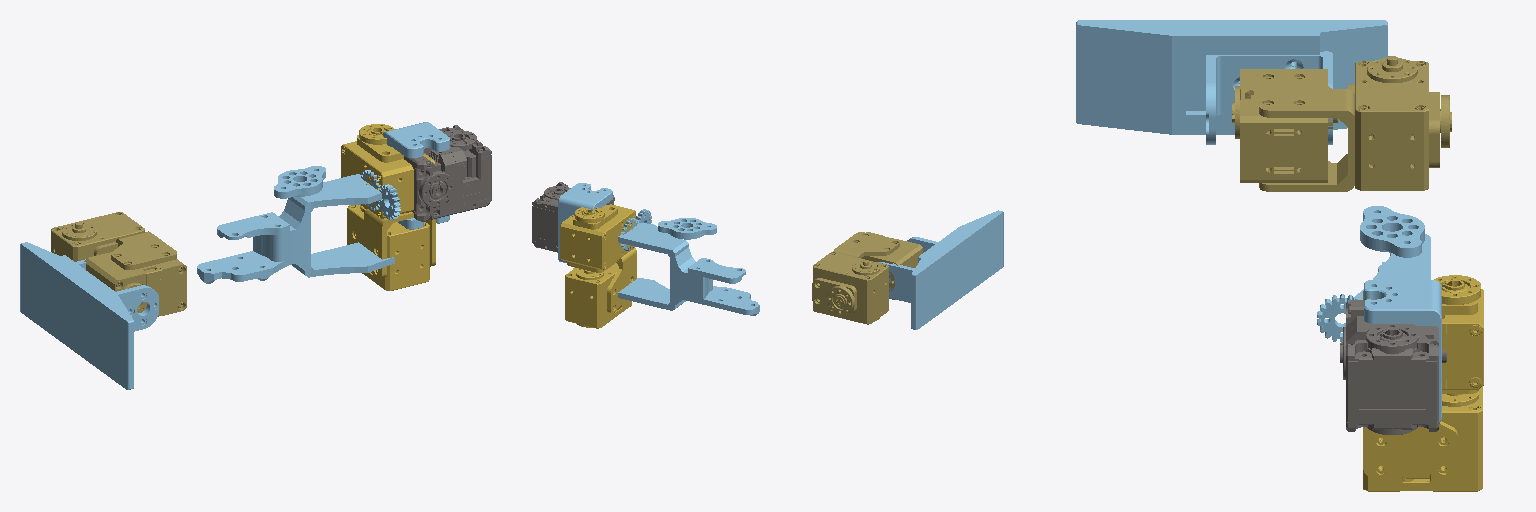
URDF robot description (right_leg_active):
<?xml version="1.0" ?>
<robot name="right_leg_active">
  <link name="2xc430">
    <visual>
      <origin xyz="0 0 0" rpy="0 -0 0"/>
      <geometry>
        <mesh filename="package:///meshes/right_2xc430_visual.stl"/>
      </geometry>
      <material name="2xc430_material">
        <color rgba="0.51698661238356047321 0.50347815951093488618 0.49050589017722012741 1.0"/>
      </material>
    </visual>
    <collision>
      <origin xyz="0 0 0" rpy="0 -0 0"/>
      <geometry>
        <mesh filename="package:///meshes/right_2xc430_collision.stl"/>
      </geometry>
    </collision>
    <inertial>
      <origin xyz="-0.0120001511339564923 0.00049588831385626367092 0.01850401924450319896" rpy="0 0 0"/>
      <mass value="0.11059999999836234164"/>
      <inertia ixx="2.2818802599017385101e-05" ixy="4.6888548258345894655e-08" ixz="4.6520143289217505514e-08" iyy="3.0871666424467696587e-05" iyz="-5.7477343899723834052e-07" izz="3.0871632082336744173e-05"/>
    </inertial>
  </link>

  <link name="hip_yaw_link">
    <visual>
      <origin xyz="0 0 0" rpy="0 -0 0"/>
      <geometry>
        <mesh filename="package:///meshes/right_hip_yaw_link_visual.stl"/>
      </geometry>
      <material name="hip_yaw_link_material">
        <color rgba="0.61568627450980395466 0.81176470588235294379 0.92941176470588238168 1.0"/>
      </material>
    </visual>
    <collision>
      <origin xyz="0 0 0" rpy="0 -0 0"/>
      <geometry>
        <mesh filename="package:///meshes/right_hip_yaw_link_collision.stl"/>
      </geometry>
    </collision>
    <inertial>
      <origin xyz="-2.678882801192081122e-18 -0.015800610849654277146 -0.019005670096647754586" rpy="0 0 0"/>
      <mass value="0.013199999999999992989"/>
      <inertia ixx="5.789461597517412337e-06" ixy="-1.9489251097466773533e-36" ixz="3.4468362863536094383e-36" iyy="5.0110144042848776317e-06" iyz="1.1826010760651176287e-09" izz="2.7344876354814331659e-06"/>
    </inertial>
  </link>

  <link name="spur_gear_21_teeth">
    <visual>
      <origin xyz="0 0 0" rpy="0 -0 0"/>
      <geometry>
        <mesh filename="package:///meshes/right_spur_gear_21_teeth_visual.stl"/>
      </geometry>
      <material name="spur_gear_21_teeth_material">
        <color rgba="0.61568627450980395466 0.81176470588235294379 0.9294117647058824927 1.0"/>
      </material>
    </visual>
    <collision>
      <origin xyz="0 0 0" rpy="0 -0 0"/>
      <geometry>
        <mesh filename="package:///meshes/right_spur_gear_21_teeth_collision.stl"/>
      </geometry>
    </collision>
    <inertial>
      <origin xyz="-4.550528933541158048e-11 -1.6782163661890817574e-11 -0.00249241020062506086" rpy="0 0 0"/>
      <mass value="0.0022000000000000001325"/>
      <inertia ixx="7.0162310059594196881e-08" ixy="0" ixz="4.8298814937805552291e-38" iyy="7.016231005804746178e-08" iyz="0" izz="1.3125544198538289306e-07"/>
    </inertial>
  </link>

  <link name="right_hip_pitch_link">
    <visual>
      <origin xyz="0 0 0" rpy="0 -0 0"/>
      <geometry>
        <mesh filename="package:///meshes/right_hip_pitch_link_visual.stl"/>
      </geometry>
      <material name="right_hip_pitch_link_material">
        <color rgba="0.81231119922470307326 0.7131158892107314351 0.33680089849959421455 1.0"/>
      </material>
    </visual>
    <collision>
      <origin xyz="0 0 0" rpy="0 -0 0"/>
      <geometry>
        <mesh filename="package:///meshes/right_hip_pitch_link_collision.stl"/>
      </geometry>
    </collision>
    <inertial>
      <origin xyz="0.010187905578010464716 -0.005618846722851051842 0.038815928333491969693" rpy="0 0 0"/>
      <mass value="0.14548965119785964295"/>
      <inertia ixx="7.094204959486600094e-05" ixy="1.1158758975154224099e-06" ixz="7.6515558781279078741e-06" iyy="8.5157398802913609982e-05" iyz="1.06993373990861437e-06" izz="4.094530693523142404e-05"/>
    </inertial>
  </link>

  <link name="spur_gear_18_teeth">
    <visual>
      <origin xyz="0 0 0" rpy="0 -0 0"/>
      <geometry>
        <mesh filename="package:///meshes/right_spur_gear_18_teeth_visual.stl"/>
      </geometry>
      <material name="spur_gear_18_teeth_material">
        <color rgba="0.61568627450980395466 0.81176470588235294379 0.92941176470588238168 1.0"/>
      </material>
    </visual>
    <collision>
      <origin xyz="0 0 0" rpy="0 -0 0"/>
      <geometry>
        <mesh filename="package:///meshes/right_spur_gear_18_teeth_collision.stl"/>
      </geometry>
    </collision>
    <inertial>
      <origin xyz="-1.2350917852414122165e-14 -3.7635296765399104409e-13 0.0017500000000010135486" rpy="0 0 0"/>
      <mass value="0.0011999999999999998949"/>
      <inertia ixx="2.936789981067607588e-08" ixy="-5.2777750224259310609e-37" ixz="2.2363428465405589407e-37" iyy="2.9367899814783318789e-08" iyz="-3.5199528326541291339e-38" izz="5.6306346207859581581e-08"/>
    </inertial>
  </link>

  <joint name="right_hip_yaw_drive" type="fixed">
    <origin xyz="0.01919999999999898524 0.00019999999999894754743 -3.8975767058246901797e-14" rpy="-3.1415926535897891192 -2.5796031977166208939e-13 5.3427523162437313535e-13"/>
    <parent link="right_hip_pitch_link"/>
    <child link="spur_gear_18_teeth"/>
    <axis xyz="0 0 1"/>
    <limit effort="1" velocity="20"/>
    <joint_properties friction="0.0"/>
  </joint>

  <link name="right_calf_link">
    <visual>
      <origin xyz="0 0 0" rpy="0 -0 0"/>
      <geometry>
        <mesh filename="package:///meshes/right_calf_link_visual.stl"/>
      </geometry>
      <material name="right_calf_link_material">
        <color rgba="0.61568627450980395466 0.81176470588235294379 0.92941176470588238168 1.0"/>
      </material>
    </visual>
    <collision>
      <origin xyz="0 0 0" rpy="0 -0 0"/>
      <geometry>
        <mesh filename="package:///meshes/right_calf_link_collision.stl"/>
      </geometry>
    </collision>
    <inertial>
      <origin xyz="-0.0043450054394401152469 -0.040752982164757575734 0.0087116093514751913318" rpy="0 0 0"/>
      <mass value="0.030999999999999992839"/>
      <inertia ixx="3.3069388685437213894e-05" ixy="1.3783307152005711891e-06" ixz="-1.2742534017149146215e-07" iyy="7.7316525337491173096e-06" iyz="7.3356500737974886855e-08" izz="2.8031377754212021892e-05"/>
    </inertial>
  </link>

  <link name="right_ank_pitch_link">
    <visual>
      <origin xyz="0 0 0" rpy="0 -0 0"/>
      <geometry>
        <mesh filename="package:///meshes/right_ank_pitch_link_visual.stl"/>
      </geometry>
      <material name="right_ank_pitch_link_material">
        <color rgba="0.70321688500203349825 0.64514870846184457776 0.40484735422826251261 1.0"/>
      </material>
    </visual>
    <collision>
      <origin xyz="0 0 0" rpy="0 -0 0"/>
      <geometry>
        <mesh filename="package:///meshes/right_ank_pitch_link_collision.stl"/>
      </geometry>
    </collision>
    <inertial>
      <origin xyz="-0.017770241889542692099 0.012301334508572231777 0.018814514831173610038" rpy="0 0 0"/>
      <mass value="0.1767637669506791076"/>
      <inertia ixx="4.7283381546857870814e-05" ixy="1.33805982072425138e-06" ixz="6.15326286073951289e-07" iyy="0.00010706462535917242202" iyz="-5.1080086246298360137e-08" izz="0.00012185522398303844723"/>
    </inertial>
  </link>

  <link name="ank_roll_link">
    <visual>
      <origin xyz="0 0 0" rpy="0 -0 0"/>
      <geometry>
        <mesh filename="package:///meshes/right_ank_roll_link_visual.stl"/>
      </geometry>
      <material name="ank_roll_link_material">
        <color rgba="0.61568627450980384364 0.81176470588235283277 0.92941176470588227065 1.0"/>
      </material>
    </visual>
    <collision>
      <origin xyz="0 0 0" rpy="0 -0 0"/>
      <geometry>
        <mesh filename="package:///meshes/right_ank_roll_link_collision.stl"/>
      </geometry>
    </collision>
    <inertial>
      <origin xyz="-0.027003066516822035736 -2.0057347814959544714e-12 0.033764011359896435593" rpy="0 0 0"/>
      <mass value="0.042600000000000012856"/>
      <inertia ixx="3.7284397827464402599e-05" ixy="-5.5174204219832163841e-16" ixz="2.392918376808064933e-06" iyy="3.7589276943350354997e-05" iyz="5.0934855163573012951e-12" izz="1.009043090678676409e-05"/>
    </inertial>
  </link>

  <joint name="right_ank_roll" type="revolute">
    <origin xyz="-0.022749999999990215549 -4.1078251911130791996e-15 0.018999999999999885036" rpy="1.5707963267947835373 9.1691796370025759616e-15 1.5707963267947813168"/>
    <parent link="right_ank_pitch_link"/>
    <child link="ank_roll_link"/>
    <axis xyz="0 0 1"/>
    <limit effort="1" velocity="20" lower="-1.570796326794896558" upper="1.570796326794896558"/>
    <joint_properties friction="0.0"/>
  </joint>

  <joint name="right_ank_pitch" type="revolute">
    <origin xyz="5.6180870362790719763e-17 -0.10000000000000083822 0.027749999999999996891" rpy="-3.1415926535897908956 2.0683074016305722883e-15 3.1415926535897571448"/>
    <parent link="right_calf_link"/>
    <child link="right_ank_pitch_link"/>
    <axis xyz="0 0 1"/>
    <limit effort="1" velocity="20" lower="-0.785398163397448279" upper="1.7453292519943295336"/>
    <joint_properties friction="0.0"/>
  </joint>

  <joint name="right_knee" type="revolute">
    <origin xyz="4.7284234669871609276e-16 -0.0087500000000002471634 0.085950000000000914557" rpy="-1.5707963267948237274 -8.4836630014116765856e-15 2.2217821261973663682e-14"/>
    <parent link="right_hip_pitch_link"/>
    <child link="right_calf_link"/>
    <axis xyz="0 0 1"/>
    <limit effort="1" velocity="20" lower="0" upper="2.0943951023931952626"/>
    <joint_properties friction="0.0"/>
  </joint>

  <link name="xm430_plate">
    <visual>
      <origin xyz="0 0 0" rpy="0 -0 0"/>
      <geometry>
        <mesh filename="package:///meshes/right_xm430_plate_visual.stl"/>
      </geometry>
      <material name="xm430_plate_material">
        <color rgba="0.61568627450980395466 0.81176470588235294379 0.92941176470588227065 1.0"/>
      </material>
    </visual>
    <collision>
      <origin xyz="0 0 0" rpy="0 -0 0"/>
      <geometry>
        <mesh filename="package:///meshes/right_xm430_plate_collision.stl"/>
      </geometry>
    </collision>
    <inertial>
      <origin xyz="-9.7261306791801168226e-19 -1.6840355871754458999e-17 0.0025278513919583817798" rpy="0 0 0"/>
      <mass value="0.0026999999999999997093"/>
      <inertia ixx="2.4635091298412534083e-07" ixy="5.8739562556303546978e-08" ixz="0" iyy="1.2887178787151819394e-07" iyz="0" izz="3.6467998413810316538e-07"/>
    </inertial>
  </link>

  <joint name="right_knee_act" type="fixed">
    <origin xyz="-3.6752903668471980207e-16 0.012449999999999988853 0.044500000000000546063" rpy="-1.570796326794896558 2.9976021664670273115e-15 -2.7630262808068215764e-25"/>
    <parent link="right_hip_pitch_link"/>
    <child link="xm430_plate"/>
    <axis xyz="0 0 1"/>
    <limit effort="1" velocity="20"/>
    <joint_properties friction="0.0"/>
  </joint>

  <joint name="right_hip_yaw" type="revolute">
    <origin xyz="4.4219386519237269229e-16 2.0122792321330962295e-16 -0.0050000000000000044409" rpy="3.141592653589793116 -1.1102230246227232743e-16 7.4562918480963285736e-14"/>
    <parent link="spur_gear_21_teeth"/>
    <child link="right_hip_pitch_link"/>
    <axis xyz="0 0 1"/>
    <limit effort="1" velocity="20" lower="-1.570796326794896558" upper="1.570796326794896558"/>
    <joint_properties friction="0.0"/>
  </joint>

  <joint name="right_hip_yaw_fixed" type="fixed">
    <origin xyz="-3.4694469519536141888e-18 -0.027999999999999997113 -0.019000000000000002998" rpy="-1.5707963267949067721 1.5707963267948852337 0"/>
    <parent link="hip_yaw_link"/>
    <child link="spur_gear_21_teeth"/>
    <axis xyz="0 0 1"/>
    <limit effort="1" velocity="20"/>
    <joint_properties friction="0.0"/>
  </joint>

  <joint name="right_hip_roll" type="revolute">
    <origin xyz="-0.024000000716139776452 0.019000000152447758806 0.019000000152447581864" rpy="-1.5707963267949041075 -1.5707963267948830133 0"/>
    <parent link="2xc430"/>
    <child link="hip_yaw_link"/>
    <axis xyz="0 0 1"/>
    <limit effort="1" velocity="20" lower="-0.785398163397448279" upper="0.785398163397448279"/>
    <joint_properties friction="0.0"/>
  </joint>


</robot>

--- Render facts (derived) ---
The picture shows the robot from 3 angles, left to right: view 1: azimuth 30°, elevation 25°; view 2: azimuth 150°, elevation 25°; view 3: azimuth 270°, elevation 25°; orthographic projection.
Robot: right_leg_active — 9 links, 8 joints (5 revolute, 3 fixed); root link 2xc430; default pose: all joints at 0.
Links seen in each view (by area): view 1: ank_roll_link, right_calf_link, right_hip_pitch_link, right_ank_pitch_link, 2xc430, hip_yaw_link, xm430_plate, spur_gear_18_teeth; view 2: right_hip_pitch_link, ank_roll_link, right_ank_pitch_link, right_calf_link, 2xc430, hip_yaw_link, xm430_plate; view 3: ank_roll_link, right_ank_pitch_link, right_hip_pitch_link, 2xc430, hip_yaw_link, xm430_plate, right_calf_link, spur_gear_18_teeth.
Link boxes in pixels (<box>): ank_roll_link: <box>20,242,158,389</box>; right_calf_link: <box>197,174,396,283</box>; right_hip_pitch_link: <box>341,124,435,290</box>; right_ank_pitch_link: <box>51,212,186,316</box>; 2xc430: <box>404,125,491,221</box>; hip_yaw_link: <box>383,122,449,229</box>; xm430_plate: <box>274,166,325,198</box>; spur_gear_18_teeth: <box>379,184,400,219</box>; right_hip_pitch_link: <box>560,204,636,328</box>; ank_roll_link: <box>878,210,1003,329</box>; right_ank_pitch_link: <box>812,232,922,324</box>; right_calf_link: <box>618,223,759,315</box>; 2xc430: <box>532,182,614,252</box>; hip_yaw_link: <box>558,183,612,262</box>; xm430_plate: <box>658,218,716,239</box>; ank_roll_link: <box>1076,20,1387,144</box>; right_ank_pitch_link: <box>1232,56,1451,191</box>; right_hip_pitch_link: <box>1363,275,1483,491</box>; 2xc430: <box>1340,300,1446,434</box>; hip_yaw_link: <box>1364,280,1441,423</box>; xm430_plate: <box>1360,206,1424,257</box>; right_calf_link: <box>1353,234,1430,299</box>; spur_gear_18_teeth: <box>1317,294,1359,342</box>.
Size in the robot's own frame: 0.2932 by 0.157 by 0.0857 metres.
9 mesh visuals loaded from 9 distinct referenced files (9 binary STL).